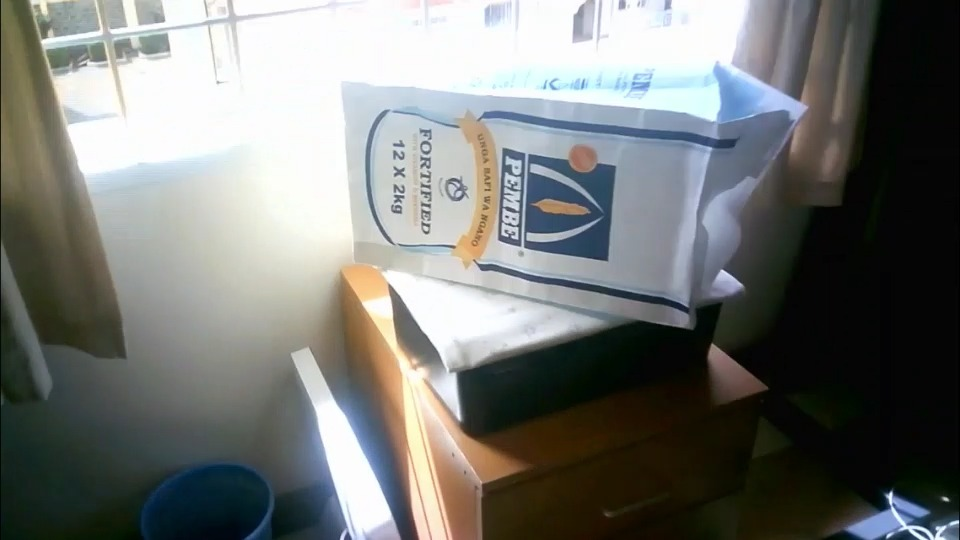wheat_flour_blue_label: (339, 50, 802, 326)
